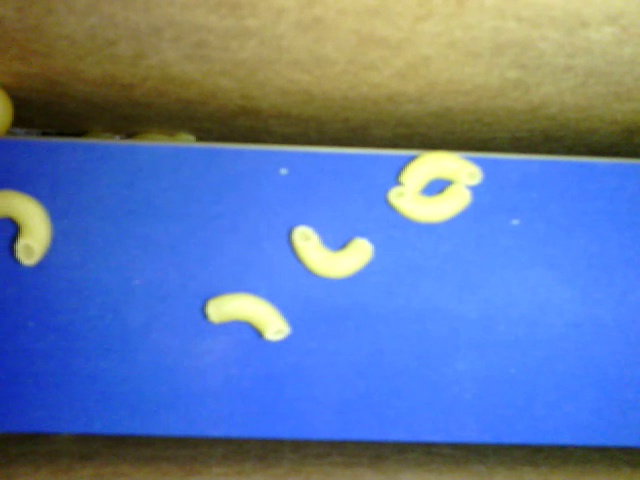elbow: (202, 291, 295, 348), (290, 225, 375, 284), (1, 189, 51, 267), (385, 184, 474, 225), (395, 154, 485, 192)
